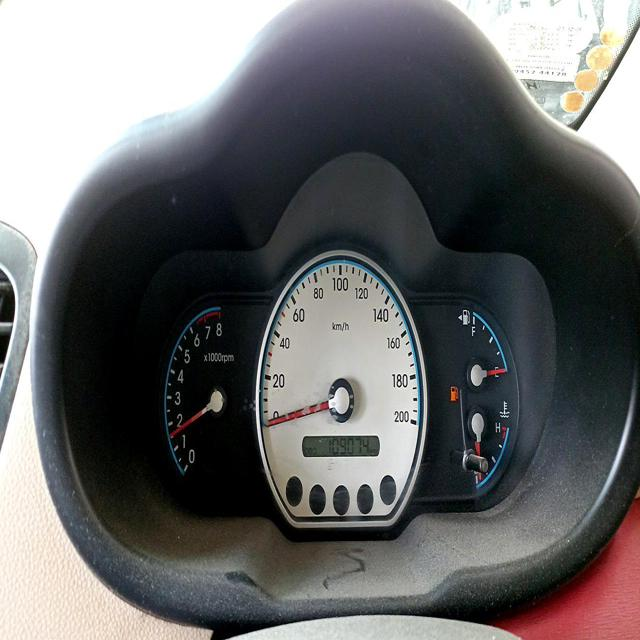odometer: (326, 436, 370, 456)
